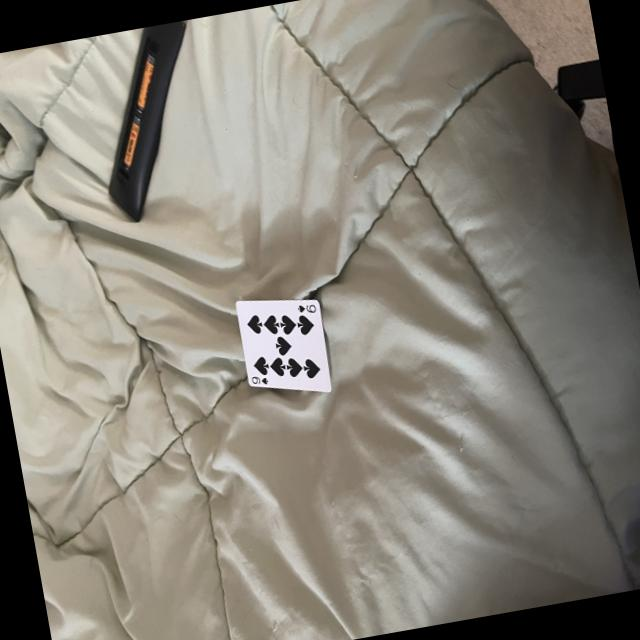9 of spades: (234, 295, 335, 391)
